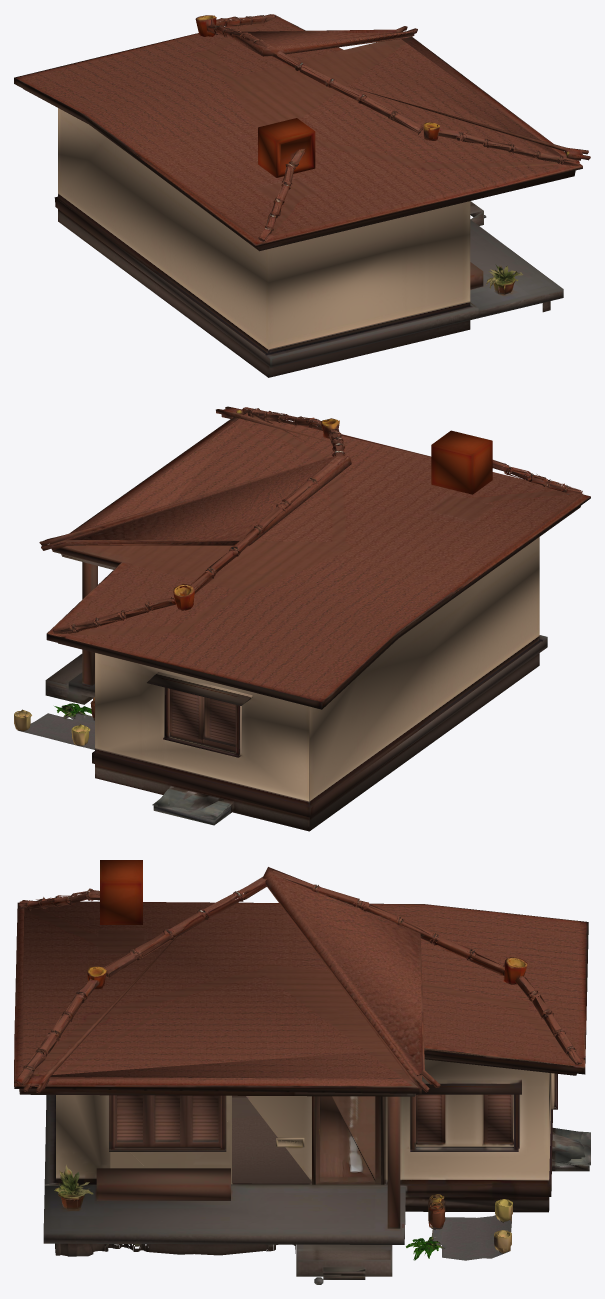
Rendered from environment.verandah-house-01.lod1.glb.
3 renders of one model, top to bottom at view 1: azimuth 30°, elevation 25°; view 2: azimuth 150°, elevation 25°; view 3: azimuth 270°, elevation 25°, orthographic. The views are drawn at different scales.
Parts seen in each view (by area): view 1: environment.verandah-house-01_LOD1_00; view 2: environment.verandah-house-01_LOD1_00; view 3: environment.verandah-house-01_LOD1_00.
Boxes of the visible parts, x1,y1,x2,y2 form: environment.verandah-house-01_LOD1_00: (14, 14, 590, 377); environment.verandah-house-01_LOD1_00: (14, 406, 590, 831); environment.verandah-house-01_LOD1_00: (14, 860, 590, 1284).
Size of the model in its own units: 8 by 5.15 by 9.58.
Materials: 1 (1 with a texture image).
